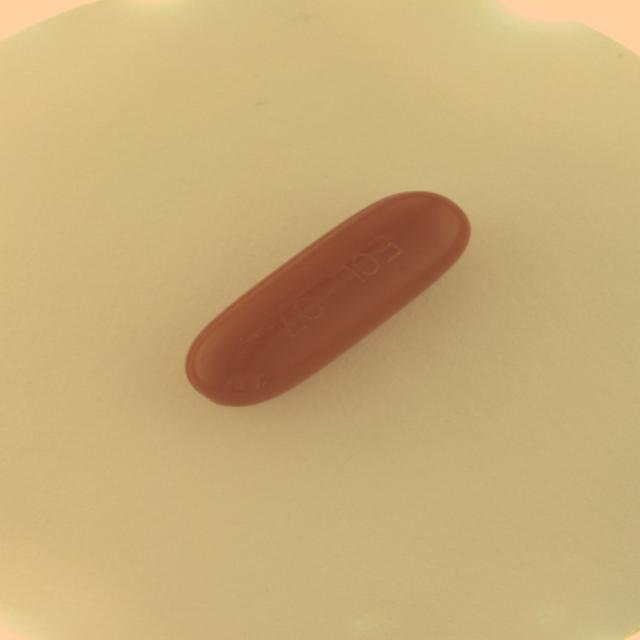Oval: (177, 186, 479, 415)
